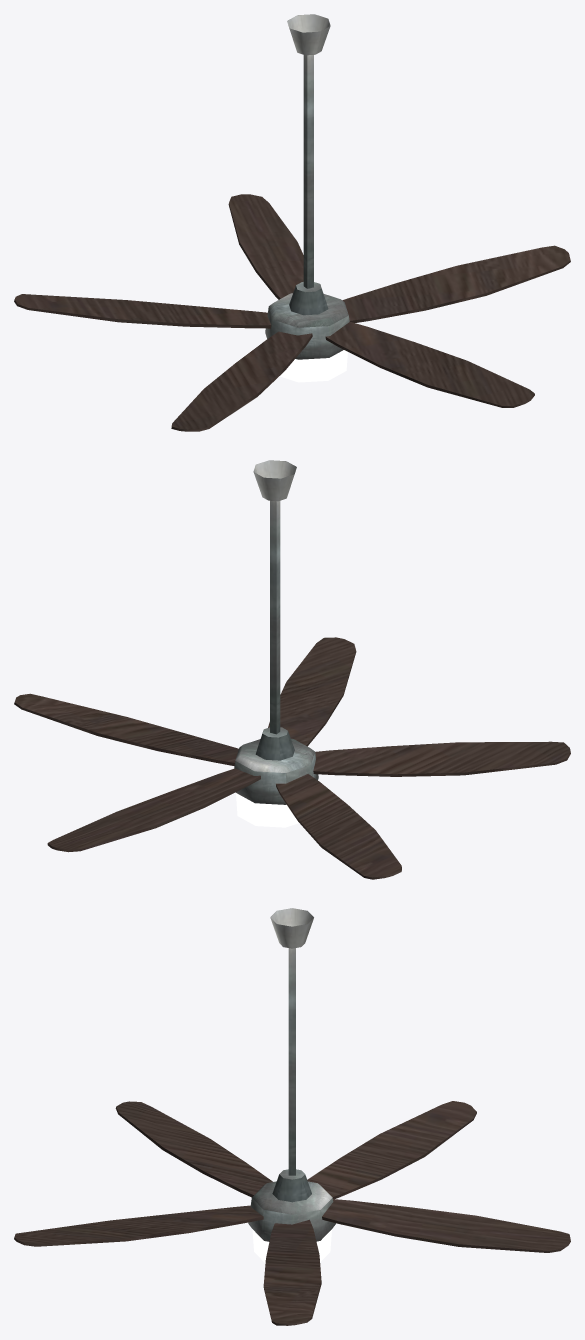
Rendered from fan_light.glb.
3 views of the same model, one above another, from view 1: azimuth 30°, elevation 25°; view 2: azimuth 150°, elevation 25°; view 3: azimuth 270°, elevation 25° (orthographic). The views are drawn at different scales.
Visible parts, largest first — view 1: Cube.238, Cube.239; view 2: Cube.238, Cube.239; view 3: Cube.238, Cube.239.
Boxes of the visible parts, x1,y1,x2,y2 form: Cube.238: (14,194,570,431); Cube.239: (287,14,330,315); Cube.238: (14,637,570,879); Cube.239: (253,460,296,760); Cube.238: (14,1101,570,1325); Cube.239: (270,908,313,1202).
Size of the model in its own units: 3.4 by 2.36 by 3.56.
Materials: 3 (2 with a texture image).
